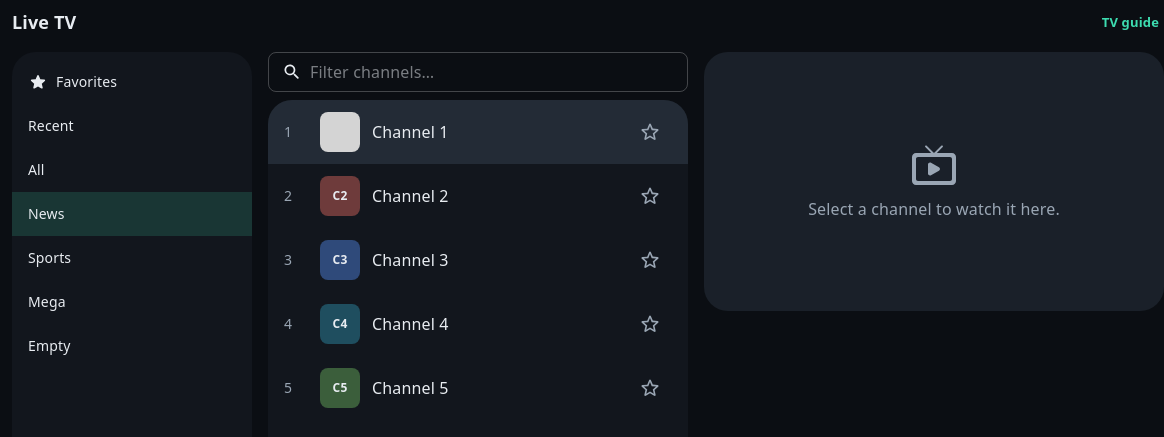
LIV-04 — quick channel filter › another category starts unfiltered
In the search field labelled "Filter channels": (499, 72) [310,52,688,92], type "channel 2"
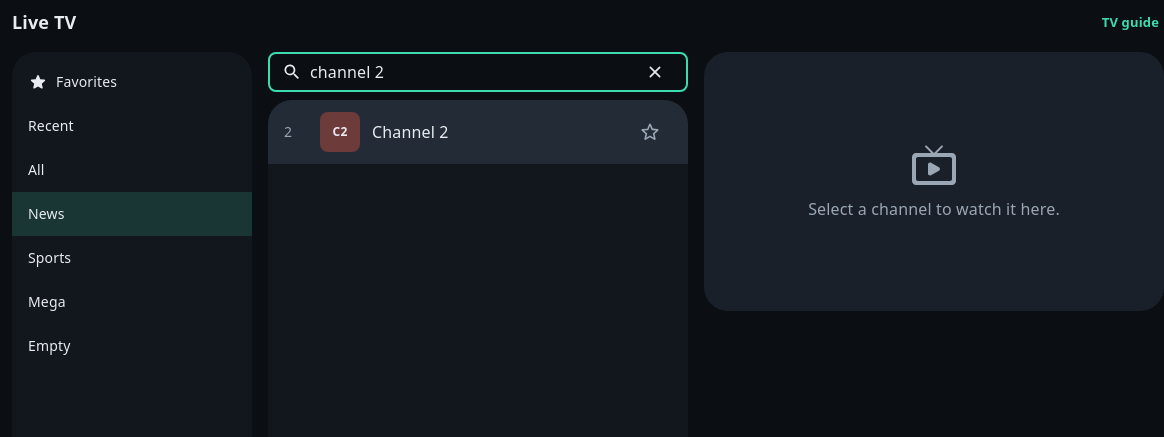
Click the link "Sports": (50, 257) [28,248,71,267]
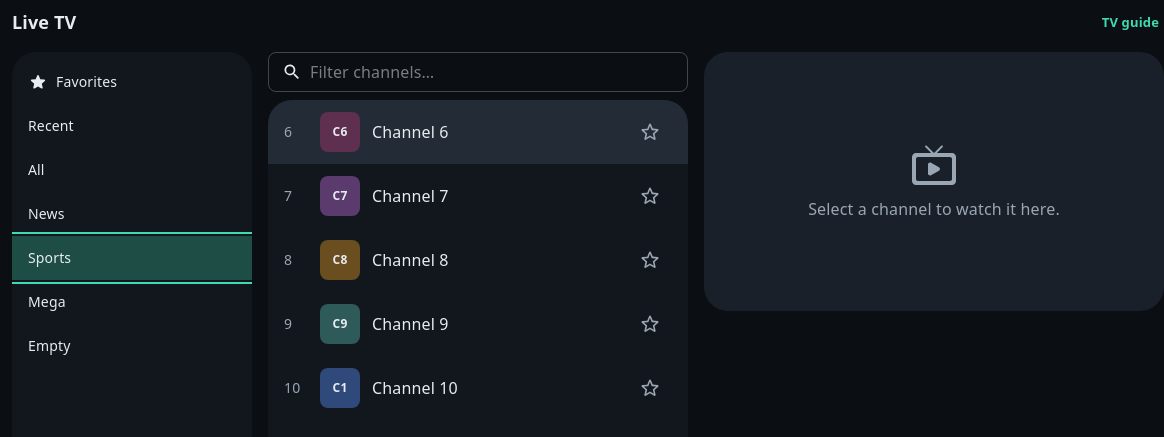
Expected: the search field labelled "Filter channels" is empty, [310,52,688,92]
Expected: the number of options is 5, [268,100,688,164]; [268,164,688,228]; [268,228,688,292]; [268,292,688,356]; [268,356,688,420]
